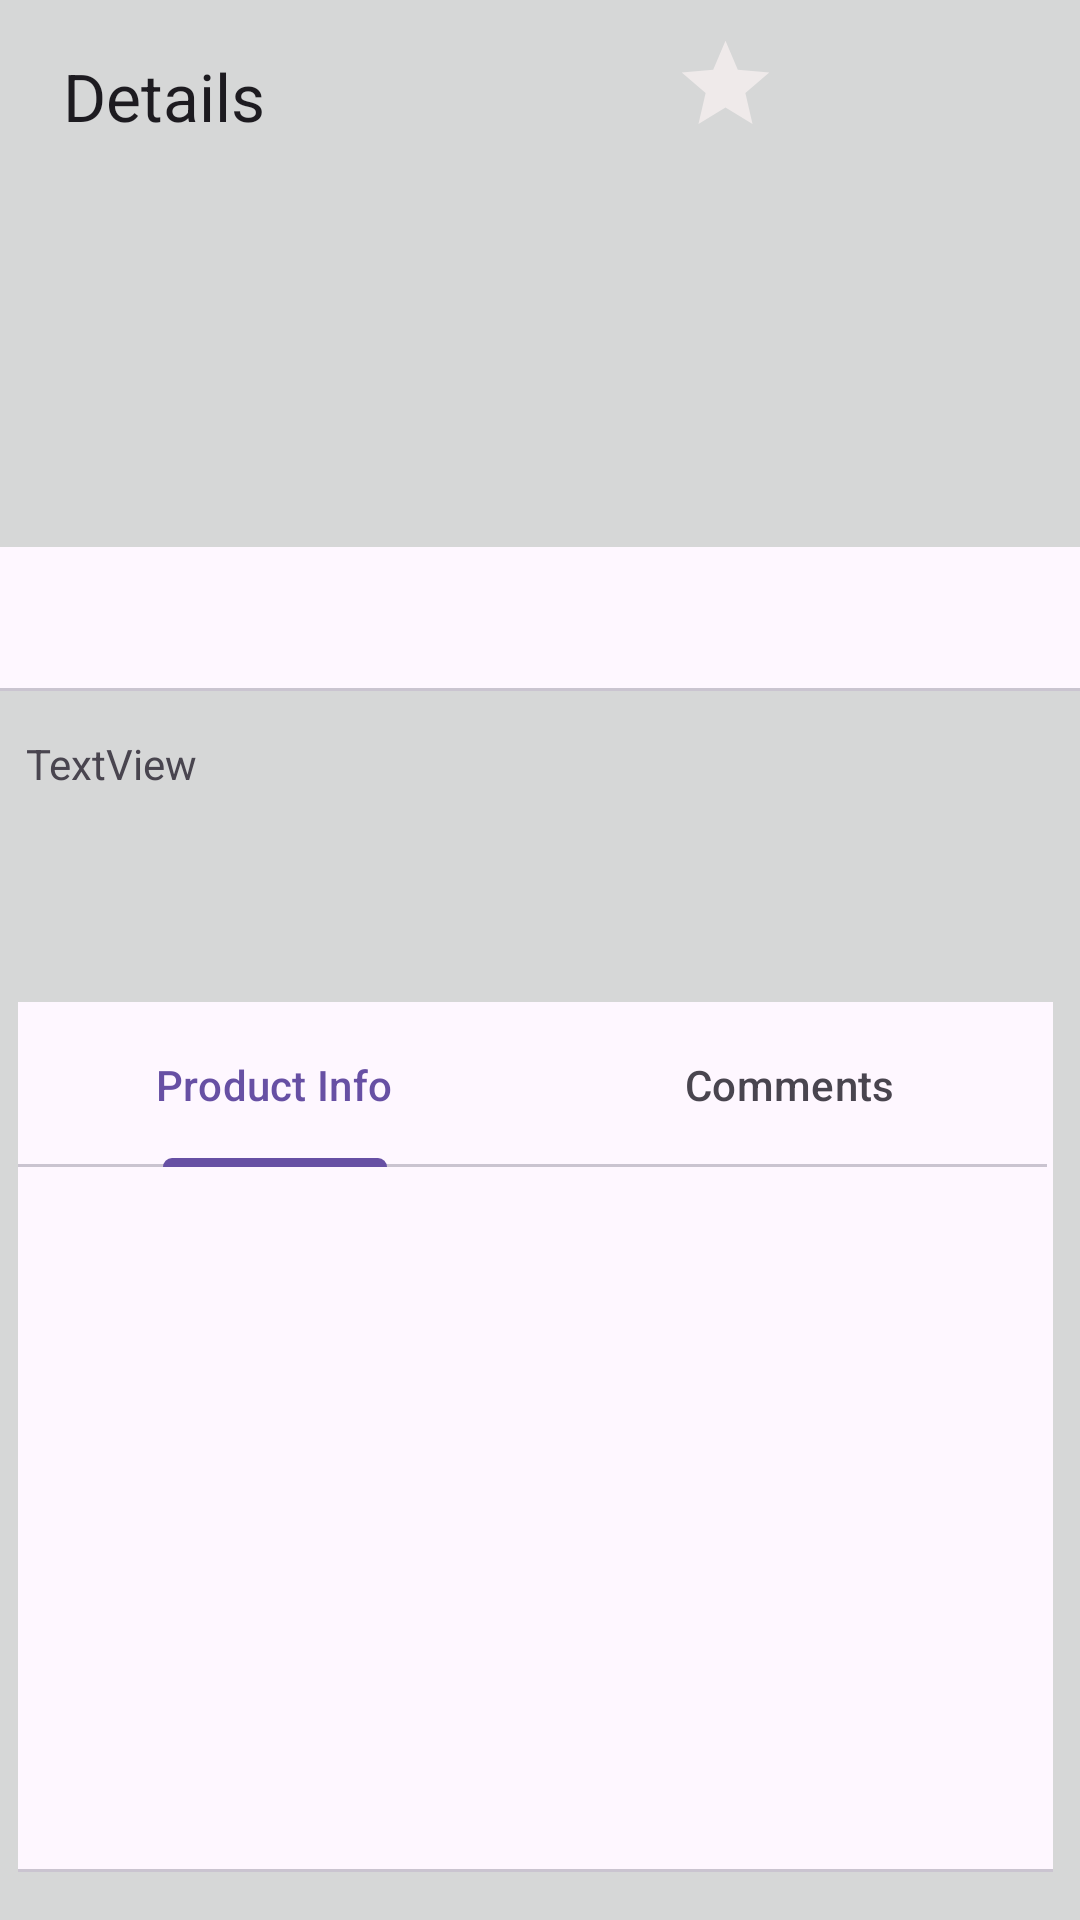

Screen size 1080px×1920px. Icon name, then its box in pixels as (left=x1, top=y1, right=x2, bottom=y2):
star empty: (left=684, top=42, right=767, bottom=123)
